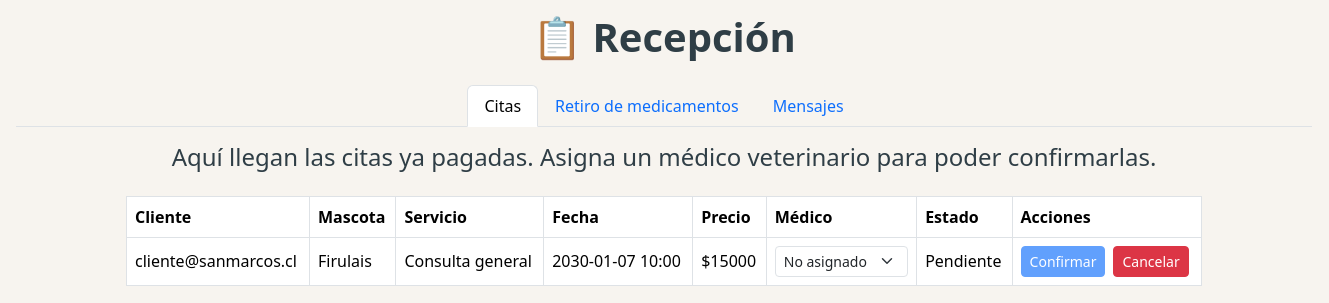
Scenario: solo se puede confirmar una cita después de asignarle un médico
The width and height of the screenshot is (1329, 303).
Expected: the button "Confirmar" is disabled, 1021,246 -> 1106,277
Select "Camila Rojas" in the dropdown named "Médico veterinario" at (842, 261), box 775,246 -> 908,277
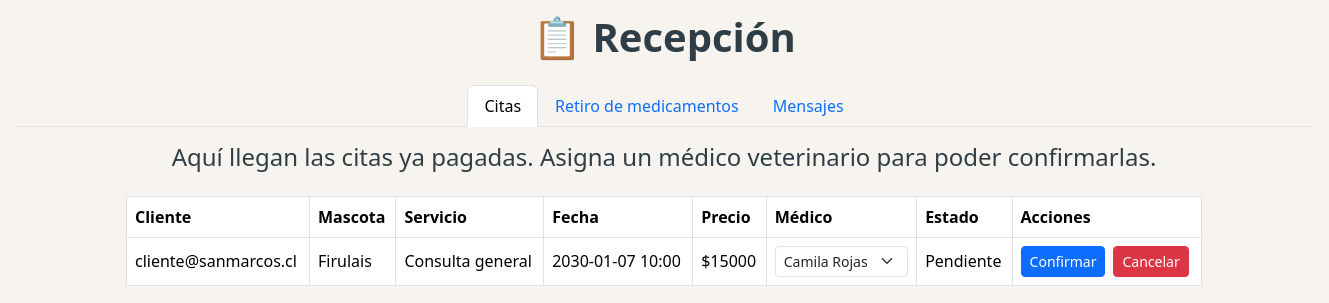
Result: the button "Confirmar" is enabled
Click the button "Confirmar" at (1063, 261), box 1021,246 -> 1106,277
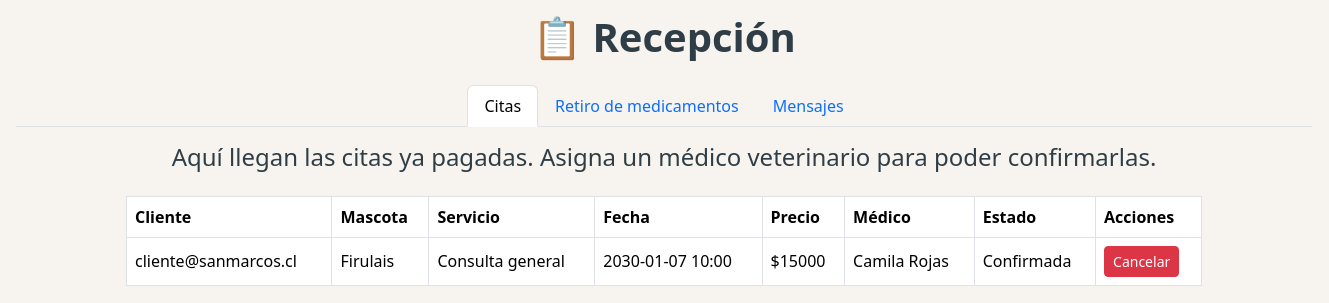
Expected: the button "Confirmar" is not shown
Result: the text "Confirmada" is shown at 974,237 -> 1096,285
